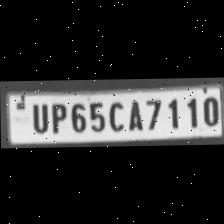0: (198, 94, 220, 125)
1: (161, 94, 181, 128), (181, 94, 199, 127)
5: (84, 98, 106, 131)
6: (66, 98, 86, 131)
7: (142, 96, 162, 129)
A: (124, 96, 144, 130)
C: (105, 96, 125, 130)
P: (46, 100, 68, 132)
U: (27, 100, 50, 132)
